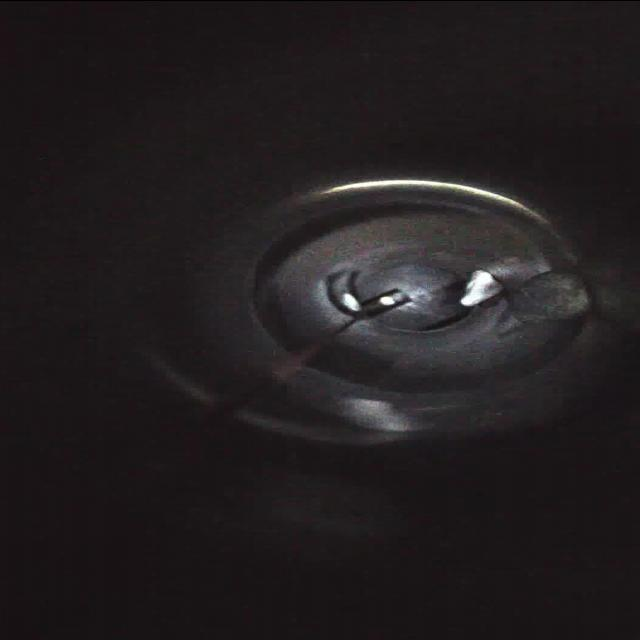impurity: (506, 261, 596, 322), (456, 266, 506, 310)
